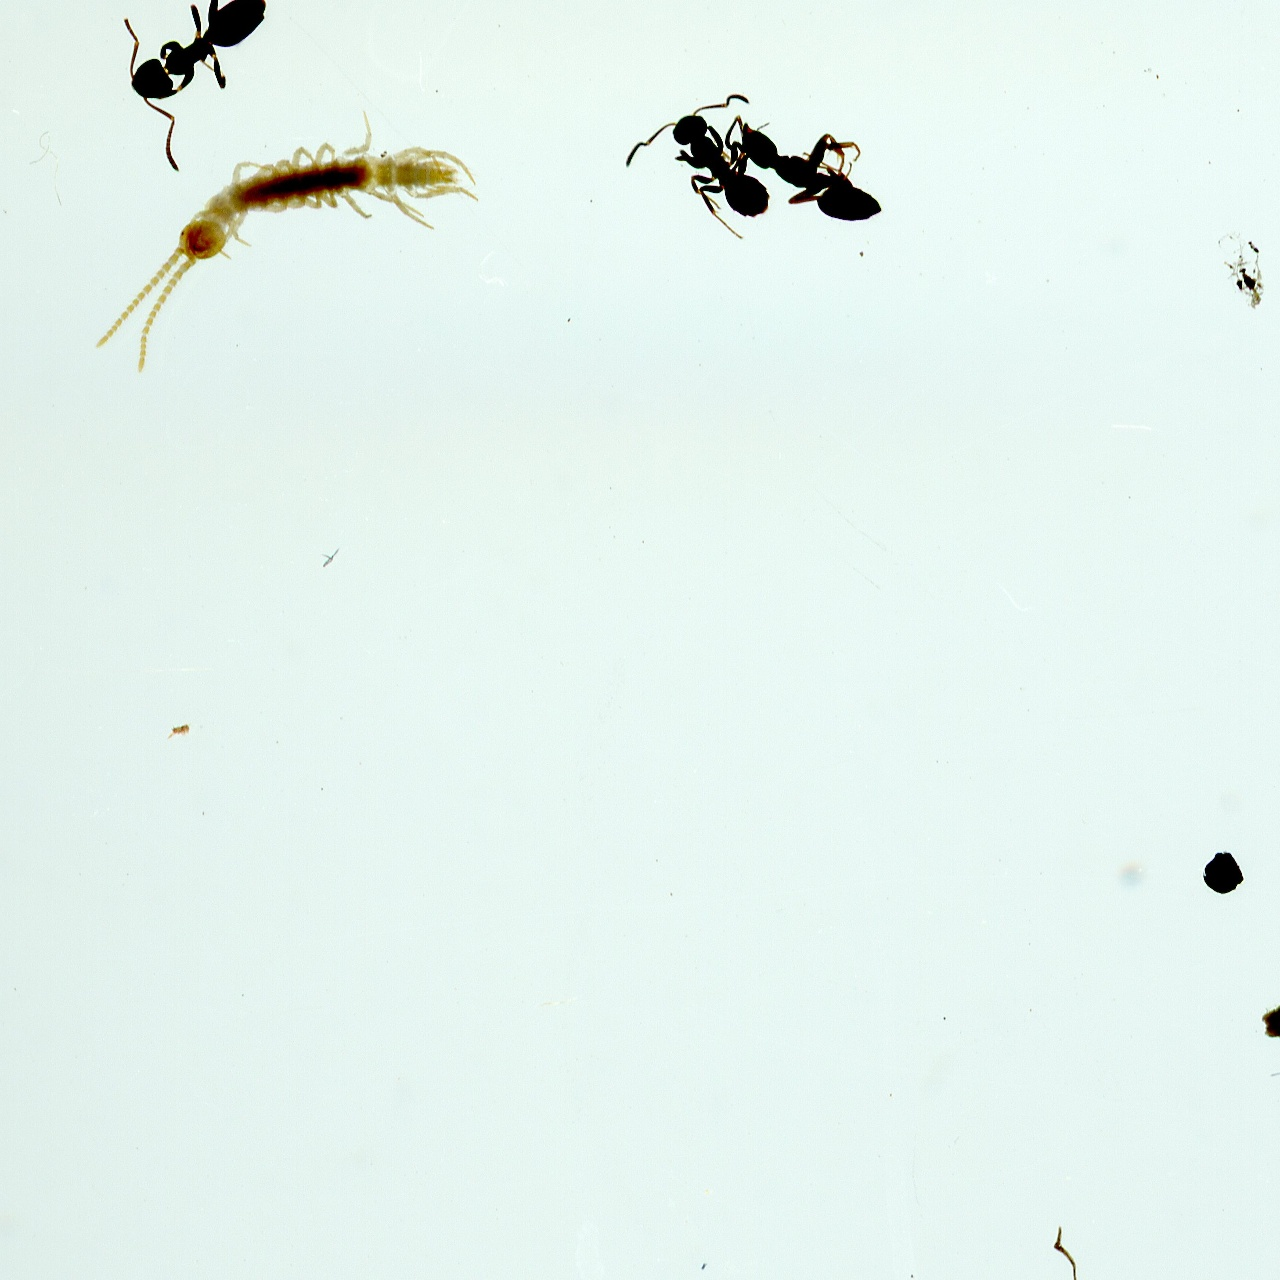arthropod: (98, 114, 490, 389), (105, 0, 267, 175), (625, 64, 769, 245), (733, 98, 886, 231)
